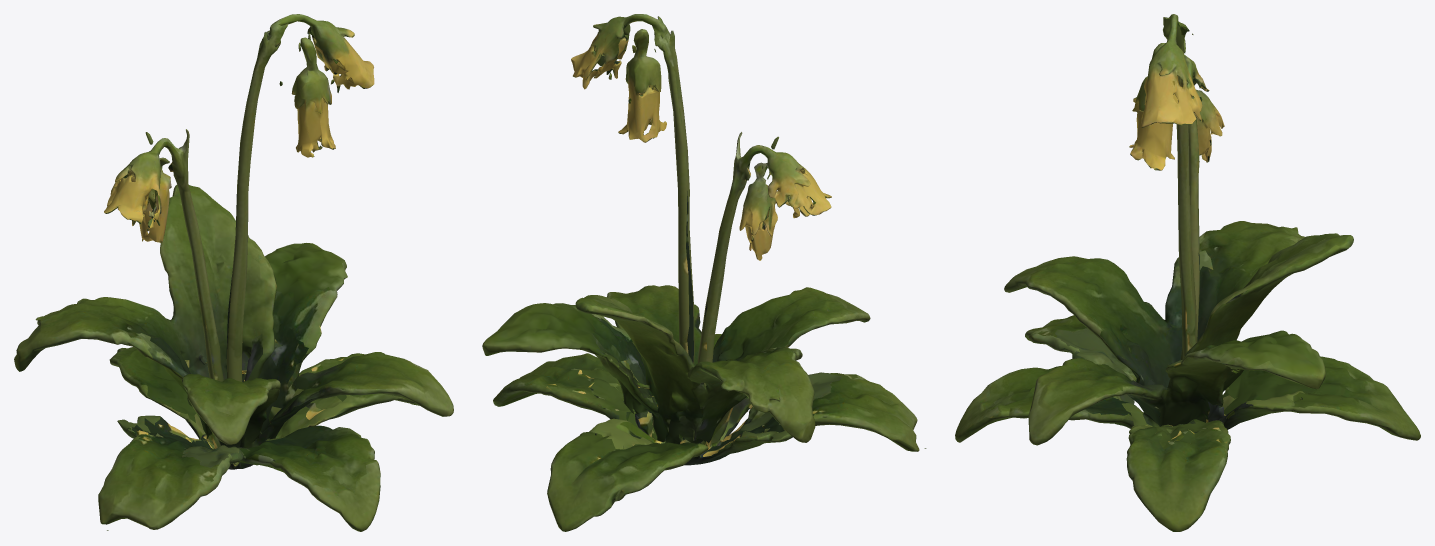
Rendered from primula.glb.
3 views of the same model, side by side, from view 1: azimuth 30°, elevation 25°; view 2: azimuth 150°, elevation 25°; view 3: azimuth 270°, elevation 25° (orthographic). The views are drawn at different scales.
Visible parts, largest first — view 1: world; view 2: world; view 3: world.
Boxes of the visible parts, left/top/right/bottom form: world: left=14, top=14, right=453, bottom=531; world: left=482, top=14, right=926, bottom=531; world: left=955, top=14, right=1420, bottom=531.
Size of the model in its own units: 1.81 by 1.95 by 1.85.
1 material, 1 textured.
